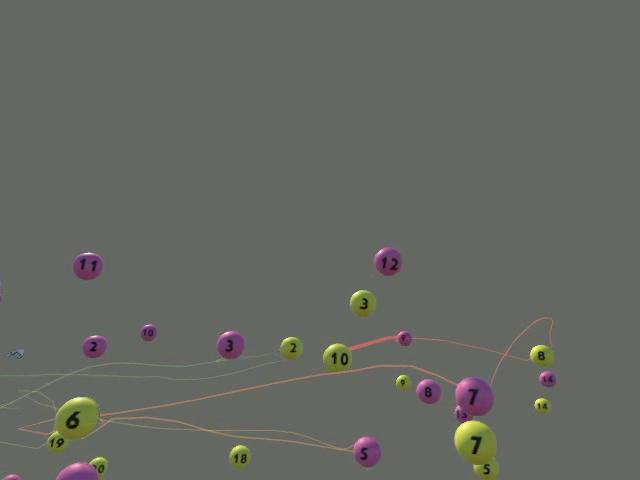ball_02_pink: (82, 334, 106, 358)
ball_02_yellow: (279, 336, 302, 359)
ball_03_pink: (216, 330, 244, 359)
ball_03_yellow: (349, 289, 376, 317)
ball_05_pink: (352, 437, 380, 467)
ball_06_yellow: (54, 396, 99, 440)
ball_07_pink: (454, 376, 494, 416)
ball_07_yellow: (453, 420, 497, 463)
ball_08_pink: (415, 378, 440, 404)
ball_08_yellow: (529, 345, 554, 366)
ball_09_pink: (396, 330, 412, 346)
ball_09_yellow: (395, 374, 410, 390)
ball_10_pink: (139, 323, 157, 341)
ball_10_yellow: (322, 342, 352, 372), (472, 458, 498, 479)
ball_11_pink: (72, 252, 103, 280)
ball_12_pink: (374, 247, 401, 276)
ball_14_pink: (538, 370, 555, 387)
ball_14_yellow: (533, 397, 551, 413)
ball_18_yellow: (228, 445, 250, 468)
ball_19_yellow: (46, 430, 69, 452)
ball_unknown: (55, 462, 98, 479), (89, 456, 108, 475), (454, 405, 471, 422), (2, 473, 20, 479), (0, 292, 2, 304)
